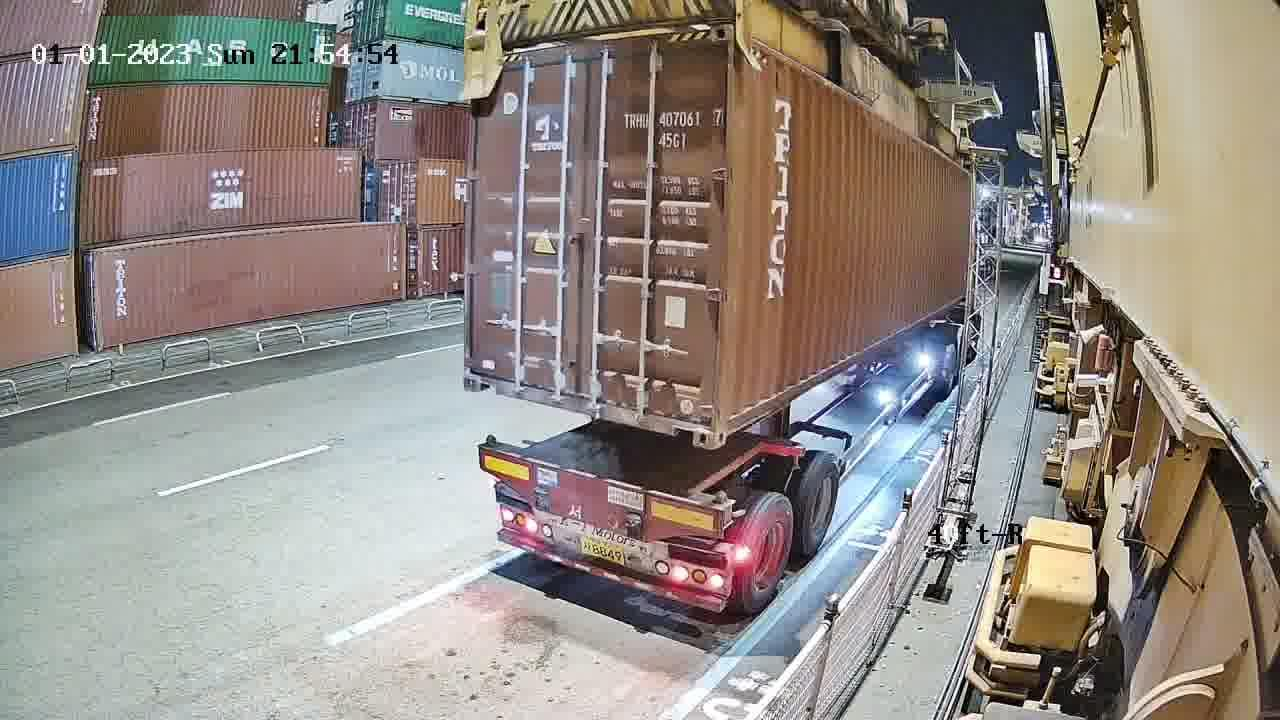Chassis: (478, 449, 728, 543)
Cone: (711, 488, 731, 522), (479, 431, 497, 463)
Hole_L: (463, 349, 508, 399), (714, 385, 749, 448)
Hole_R: (666, 396, 715, 448)
Tire: (745, 494, 793, 605), (796, 456, 841, 556)
